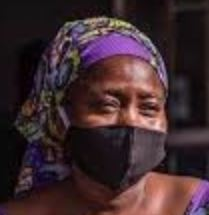with_facemask: (68, 113, 170, 192)
